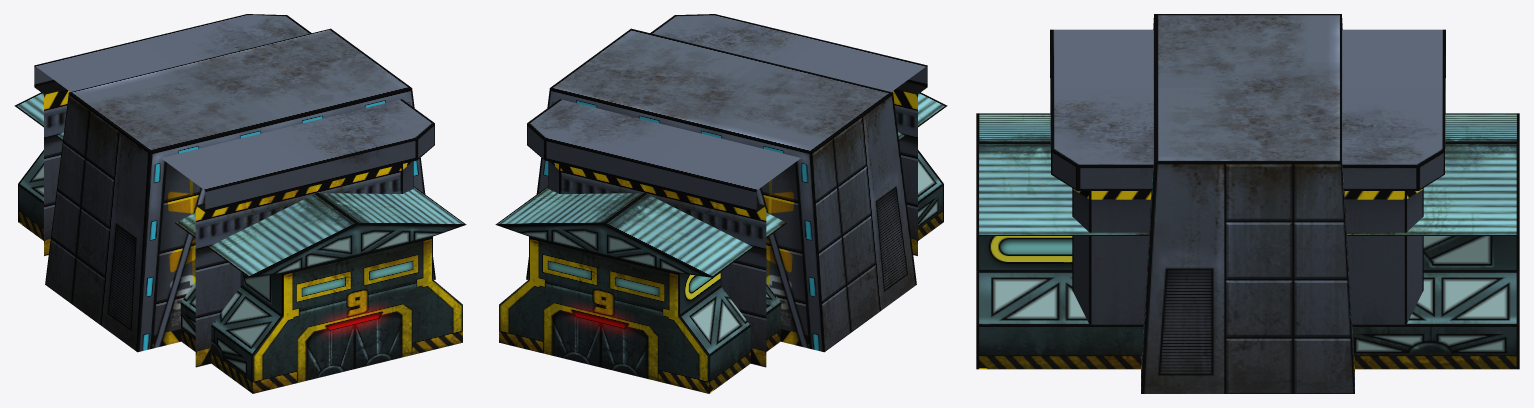
The model's file is factory_01.FBX.
3 views of the same model, side by side, from view 1: azimuth 30°, elevation 25°; view 2: azimuth 150°, elevation 25°; view 3: azimuth 270°, elevation 25° (orthographic). The views are drawn at different scales.
Parts seen in each view (by area): view 1: factory_03, factory_01, factory_02; view 2: factory_03, factory_01, factory_02; view 3: factory_03, factory_01, factory_02.
Boxes of the visible parts, x1=… form: factory_03: x1=45, y1=28, x2=435, y2=352; factory_01: x1=14, y1=92, x2=466, y2=393; factory_02: x1=34, y1=14, x2=434, y2=367; factory_03: x1=526, y1=28, x2=916, y2=352; factory_01: x1=495, y1=92, x2=947, y2=393; factory_02: x1=527, y1=14, x2=927, y2=367; factory_03: x1=1141, y1=14, x2=1354, y2=393; factory_01: x1=976, y1=113, x2=1519, y2=369; factory_02: x1=1050, y1=29, x2=1445, y2=324.
Bounding box in the file's own units: 2389 × 1473 × 3258.
